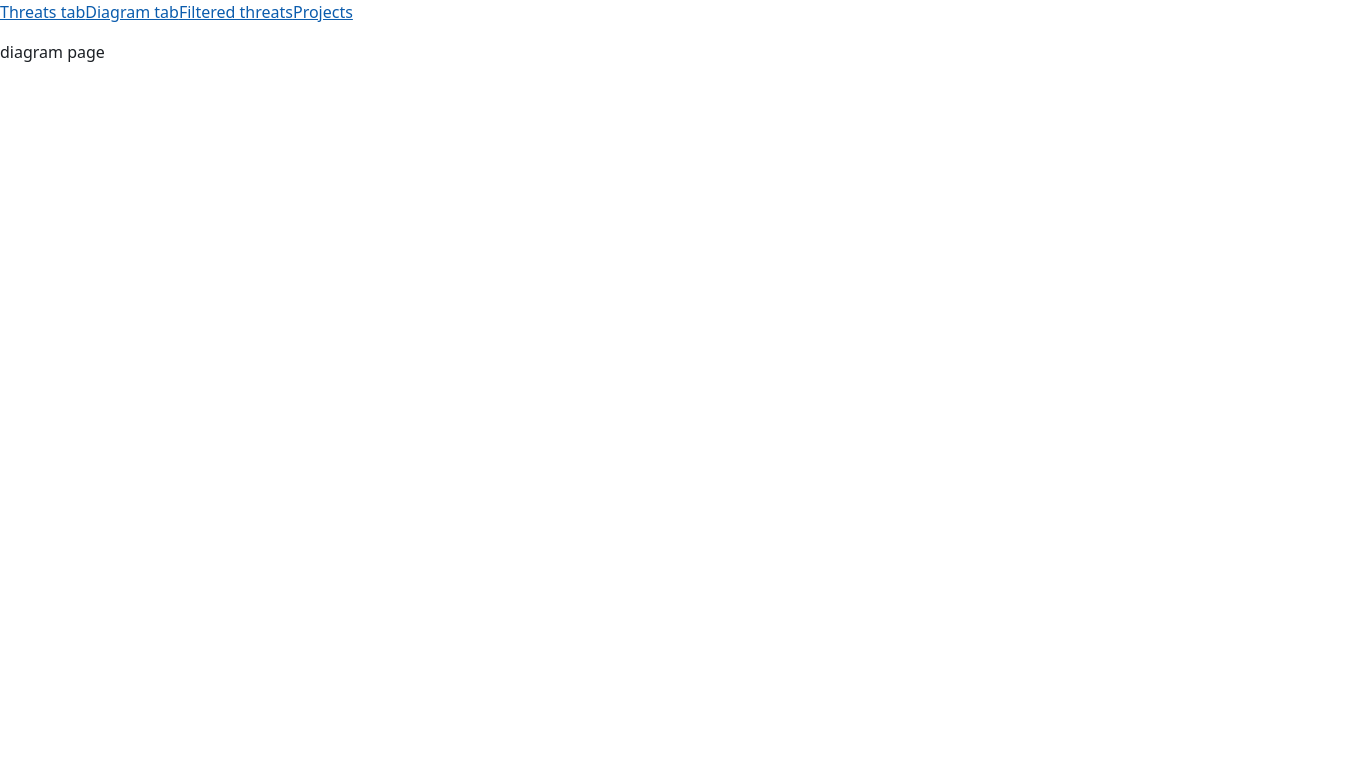
Test case: leaving the threat model with unsaved changes › asks first, says how many changes are at stake, and has Stay as the safe choice
Click the link "Projects".
click(323, 12)  # box [293,1,353,23]
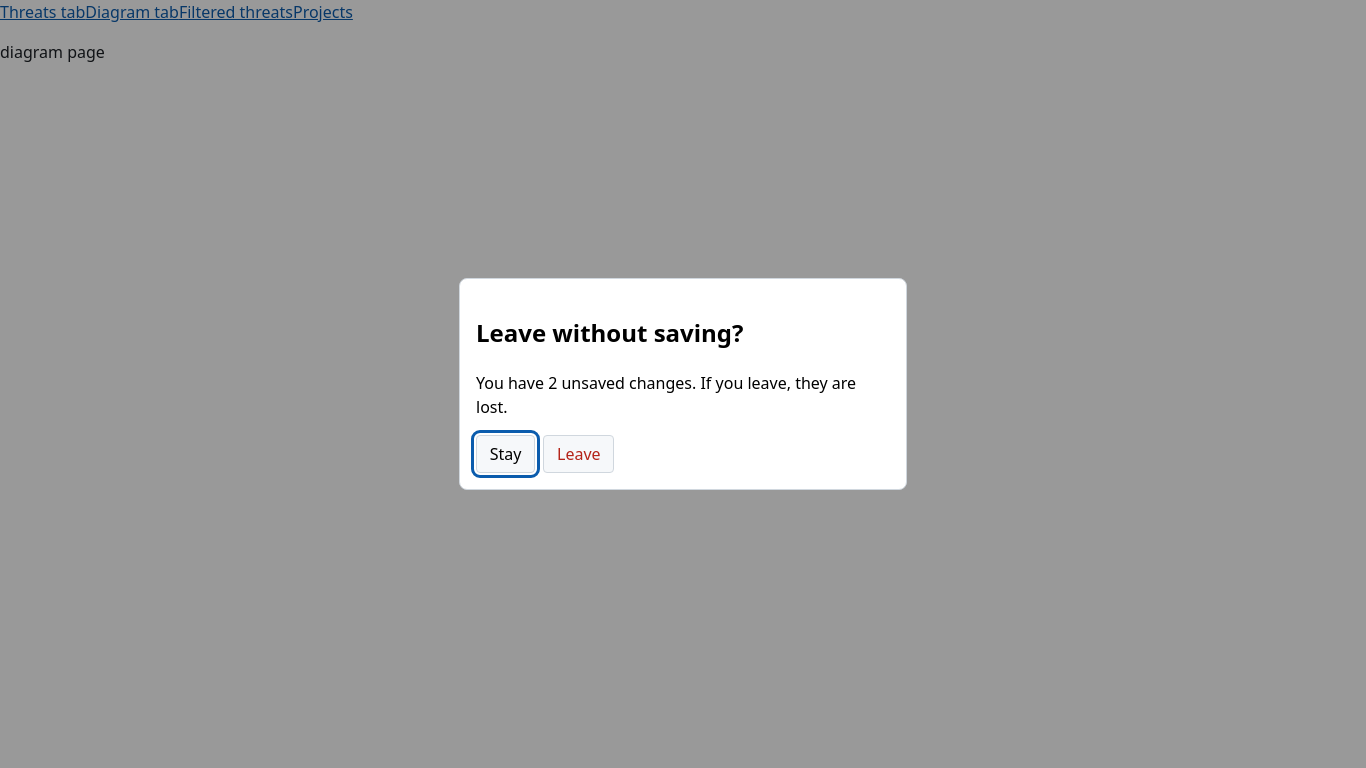
Now the heading reads "Leave without saving?", box [476,316,744,349]
Now the dialog shows "2 unsaved changes", box [476,372,856,418]
